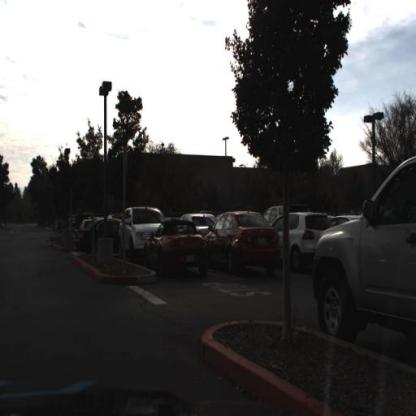car: (313, 149, 416, 360), (204, 206, 282, 276), (270, 205, 332, 276), (142, 217, 215, 277), (68, 214, 127, 256), (117, 204, 162, 259)
